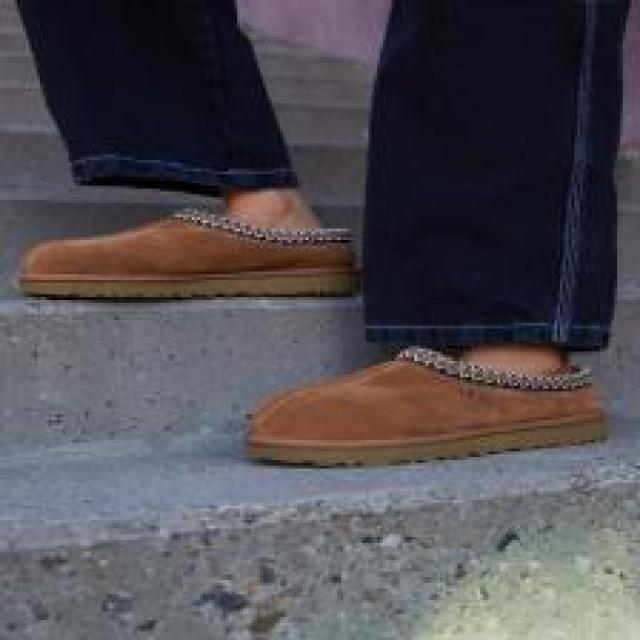shoe: (243, 347, 607, 467), (17, 209, 361, 299)
